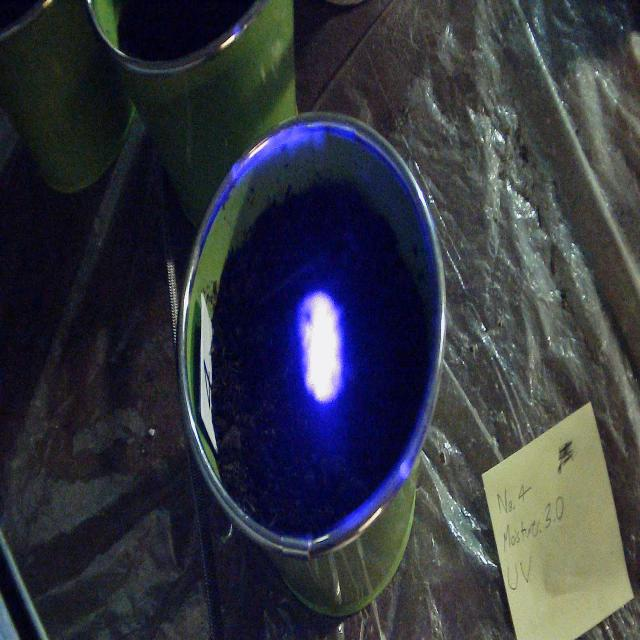soil-moisture-3.0: (294, 290, 347, 406)
